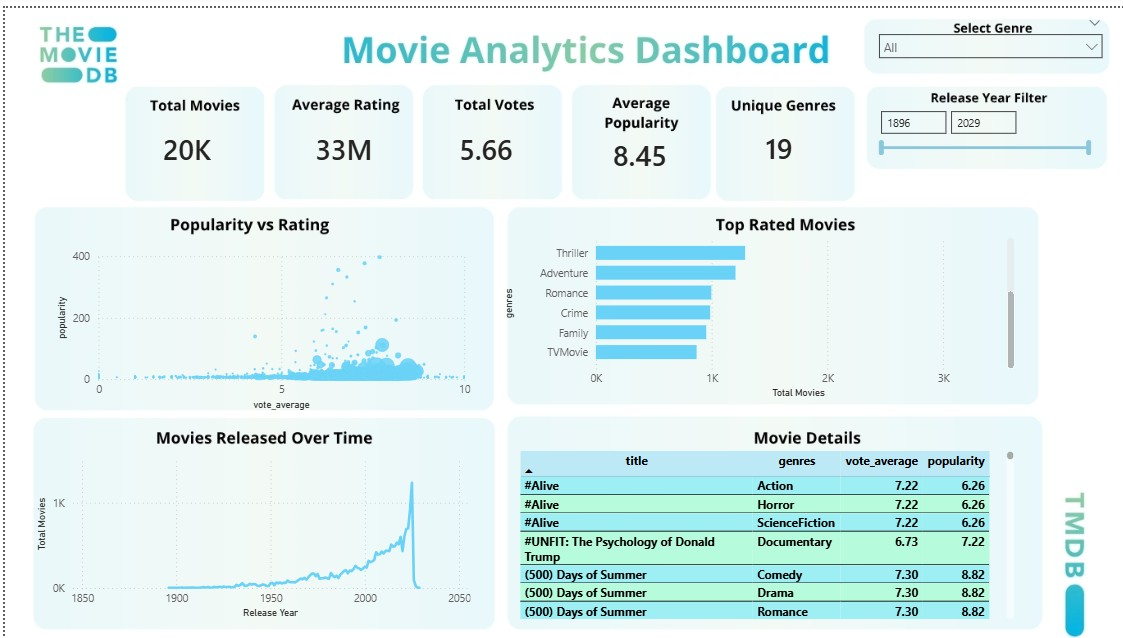

What the dashboard file says about the page in this screenshot:
{"tool":"powerbi","page":{"name":"Page 1","canvas":[1280,720],"ordinal":0},"visuals":[{"type":"image","box":[0,0,1280,720],"z":500},{"type":"cardVisual","fields":{"Data":["movies_cleaned.Total Movies"]},"box":[151.4,117.1,134.3,85.7],"z":1000},{"type":"cardVisual","fields":{"Data":["movies_cleaned.Total Votes"]},"box":[305.7,102.9,180,114.3],"z":2000},{"type":"cardVisual","fields":{"Data":["movies_cleaned.Avg Rating"]},"box":[470,118.6,170,82.9],"z":3000},{"type":"cardVisual","fields":{"Data":["movies_cleaned.Avg Popularity"]},"box":[665.7,115.7,140,101.4],"z":4000},{"type":"lineChart","fields":{"Category":["movies_cleaned.Release Year"],"Y":["movies_cleaned.Total Movies"]},"box":[31.4,502.9,505.7,200],"z":5000},{"type":"cardVisual","fields":{"Data":["movies_cleaned.Unique Genres"]},"box":[840,118.6,128.6,81.4],"z":6000},{"type":"scatterChart","fields":{"X":["movies_cleaned.vote_average"],"Y":["movies_cleaned.popularity"],"Size":["Sum(movies_cleaned.vote_count)"]},"box":[54.3,270,482.9,194.3],"z":7000},{"type":"clusteredBarChart","fields":{"Category":["movies_cleaned.genres"],"Y":["movies_cleaned.Total Movies"]},"box":[565.7,250,592.9,201.4],"z":8000},{"type":"tableEx","fields":{"Values":["movies_cleaned.title","movies_cleaned.genres","movies_cleaned.vote_average","movies_cleaned.popularity"]},"box":[582.9,501.4,575.7,201.4],"z":9000},{"type":"slicer","fields":{"Values":["movies_cleaned.genres"]},"box":[988.6,10,275.7,80],"z":10000},{"type":"slicer","fields":{"Values":["movies_cleaned.Release Year"]},"box":[988.6,90,265.7,88.6],"z":11000}]}

Visuals, with their boxes in screenshot pixels (x1, y1, x2, y2), scaled from the page's 1280x720 canvas onto the 1123x638 screenshot:
image: bbox=[0, 0, 1122, 637]
cardVisual - movies_cleaned.Total Movies: bbox=[133, 104, 251, 180]
cardVisual - movies_cleaned.Total Votes: bbox=[268, 91, 426, 192]
cardVisual - movies_cleaned.Avg Rating: bbox=[412, 105, 562, 179]
cardVisual - movies_cleaned.Avg Popularity: bbox=[584, 103, 707, 192]
lineChart - movies_cleaned.Release Year x movies_cleaned.Total Movies: bbox=[28, 446, 471, 623]
cardVisual - movies_cleaned.Unique Genres: bbox=[737, 105, 850, 177]
scatterChart - movies_cleaned.vote_average x movies_cleaned.popularity: bbox=[48, 239, 471, 411]
clusteredBarChart - movies_cleaned.genres x movies_cleaned.Total Movies: bbox=[496, 222, 1016, 400]
tableEx - movies_cleaned.title x movies_cleaned.genres: bbox=[511, 444, 1016, 623]
slicer - movies_cleaned.genres: bbox=[867, 9, 1109, 80]
slicer - movies_cleaned.Release Year: bbox=[867, 80, 1100, 158]
